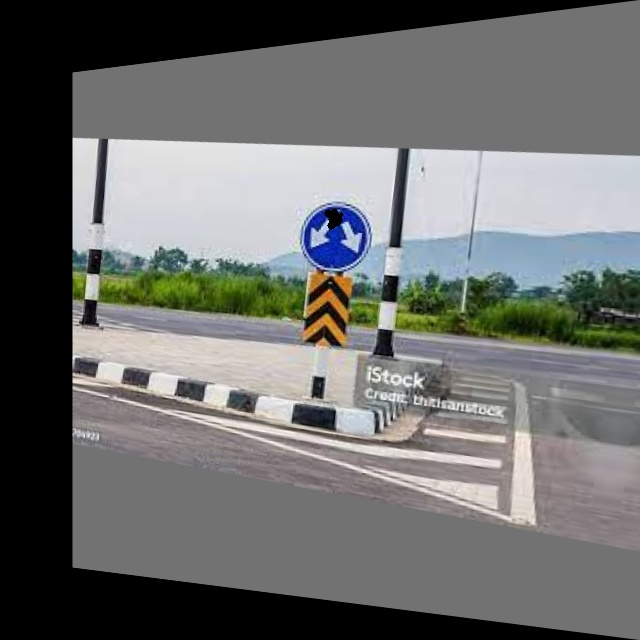Pass_Either_Side: (294, 192, 378, 276)
